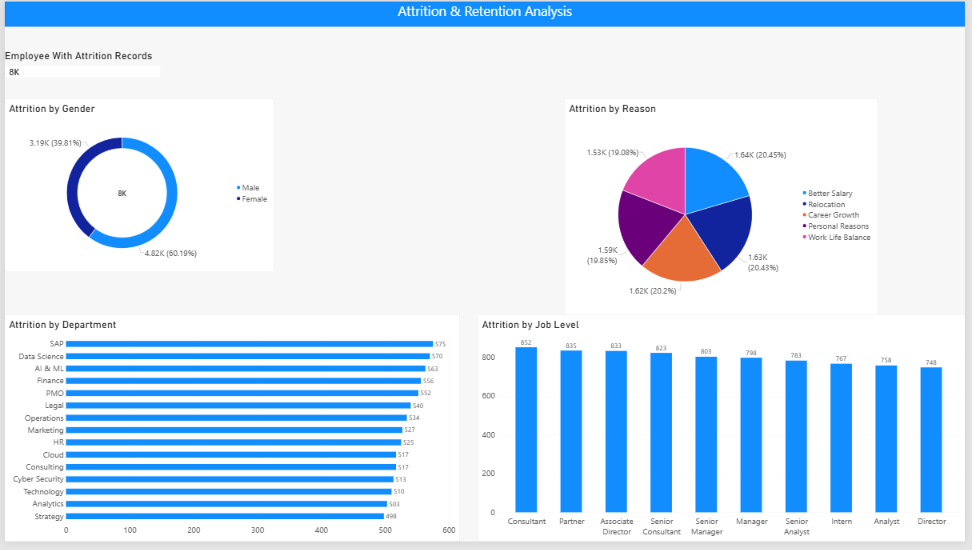

The page's visual inventory and layout, read from the dashboard file:
{"tool":"powerbi","page":{"name":"Attrition & Retention","canvas":[3840,2160],"ordinal":2},"visuals":[{"type":"shape","box":[0,0,3840,100],"z":0},{"type":"textbox","box":[0,0,3840,100],"z":1},{"type":"cardVisual","title":"Employee With Attrition Records","fields":{"Data":["Count(FactAttrition.EmployeeID)"]},"box":[0,190,623.3,113.3],"z":2},{"type":"pieChart","title":"Attrition by Reason","fields":{"Category":["FactAttrition.AttritionReason"],"Y":["Count(FactAttrition.EmployeeID)"]},"box":[2240,386.7,1250,866.7],"z":3},{"type":"clusteredBarChart","title":"Attrition by Department","fields":{"Category":["DimDepartment.DepartmentName"],"Y":["Count(FactAttrition.EmployeeID)"]},"box":[0,1253.3,1820,906.7],"z":4},{"type":"donutChart","title":"Attrition by Gender","fields":{"Category":["FactAttrition.Gender"],"Y":["Count(FactAttrition.EmployeeID)"]},"box":[0,386.7,1076.7,693.3],"z":5},{"type":"clusteredColumnChart","title":"Attrition by Job Level","fields":{"Category":["DimJobLevel.JobLevel"],"Y":["CountNonNull(FactAttrition.EmployeeID)"]},"box":[1890,1253.3,1950,906.7],"z":6}]}

Visuals, with their boxes in screenshot pixels (x1, y1, x2, y2), scaled from the page's 3840x2160 canvas onto the 972x550 screenshot:
shape: 0,0,971,25
textbox: 0,0,971,25
"Employee With Attrition Records" cardVisual: 0,48,158,77
"Attrition by Reason" pieChart: 567,98,883,319
"Attrition by Department" clusteredBarChart: 0,319,461,549
"Attrition by Gender" donutChart: 0,98,273,275
"Attrition by Job Level" clusteredColumnChart: 478,319,971,549
